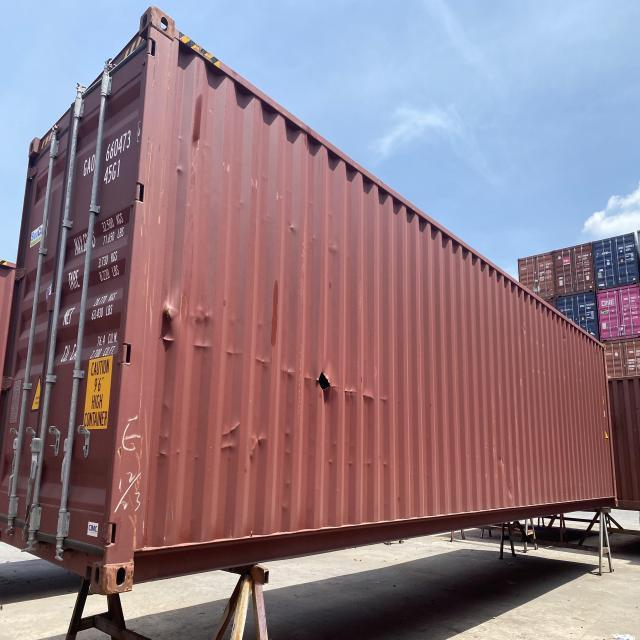hole: (314, 370, 340, 400)
